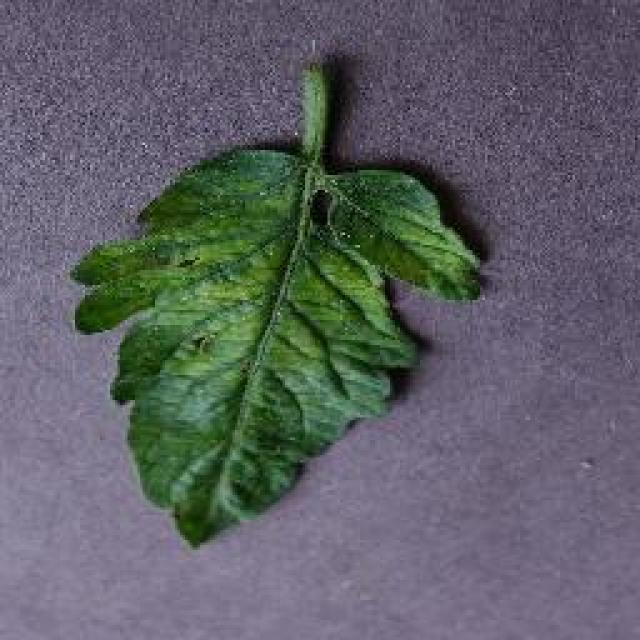Tomato___Tomato_mosaic_virus: (72, 65, 478, 542)
